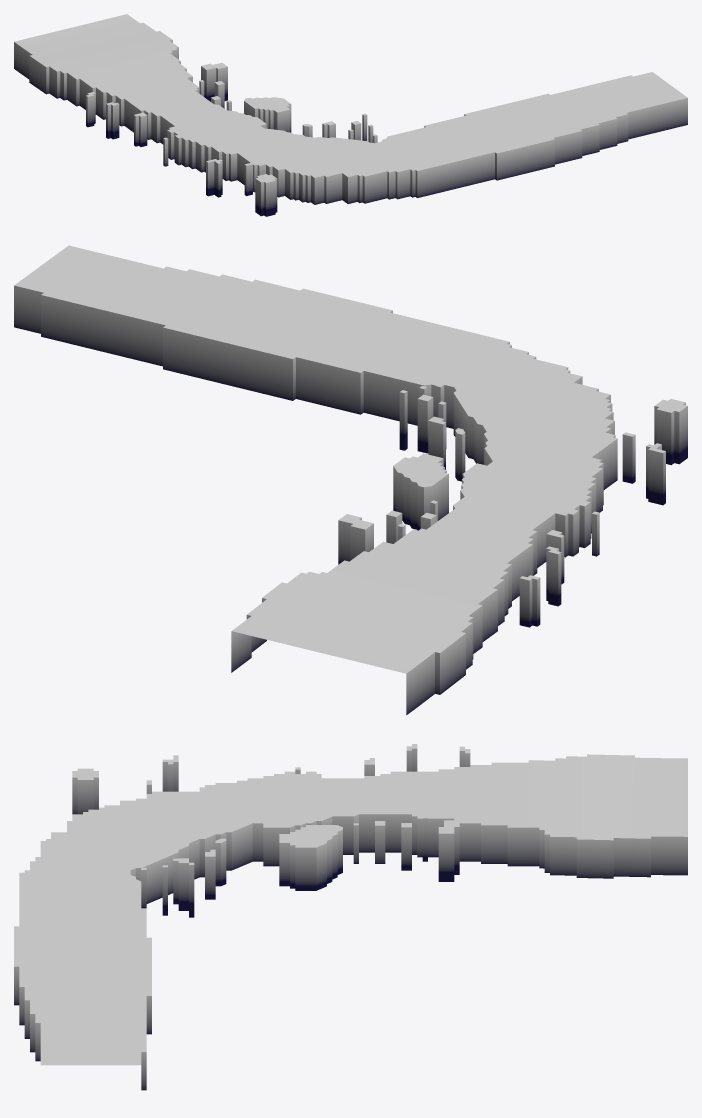
File: BarrensPart7.obj
3 renders of one model, top to bottom at view 1: azimuth 30°, elevation 25°; view 2: azimuth 150°, elevation 25°; view 3: azimuth 270°, elevation 25°, orthographic. The views are drawn at different scales.
Parts seen in each view (by area): view 1: BarrensPart6.001; view 2: BarrensPart6.001; view 3: BarrensPart6.001.
Part boxes in pixels (x1,y1,x2,y2): BarrensPart6.001: (14,14,687,216); BarrensPart6.001: (14,245,687,715); BarrensPart6.001: (14,744,687,1090).
Bounding box in the file's own units: 140 × 11.5 × 127.
